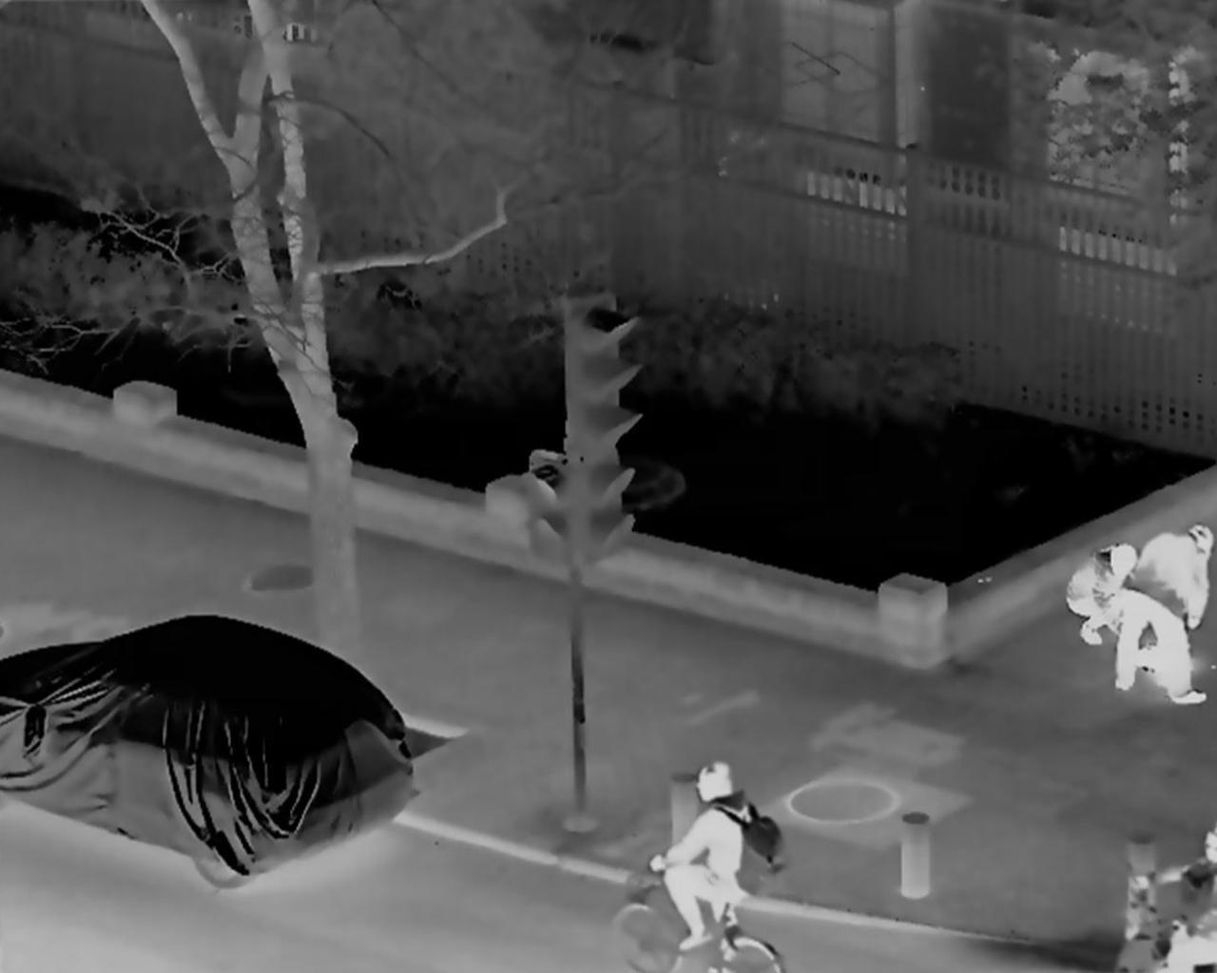person: (648, 759, 781, 956), (1116, 520, 1214, 707), (1143, 830, 1217, 968), (1064, 537, 1139, 643)
